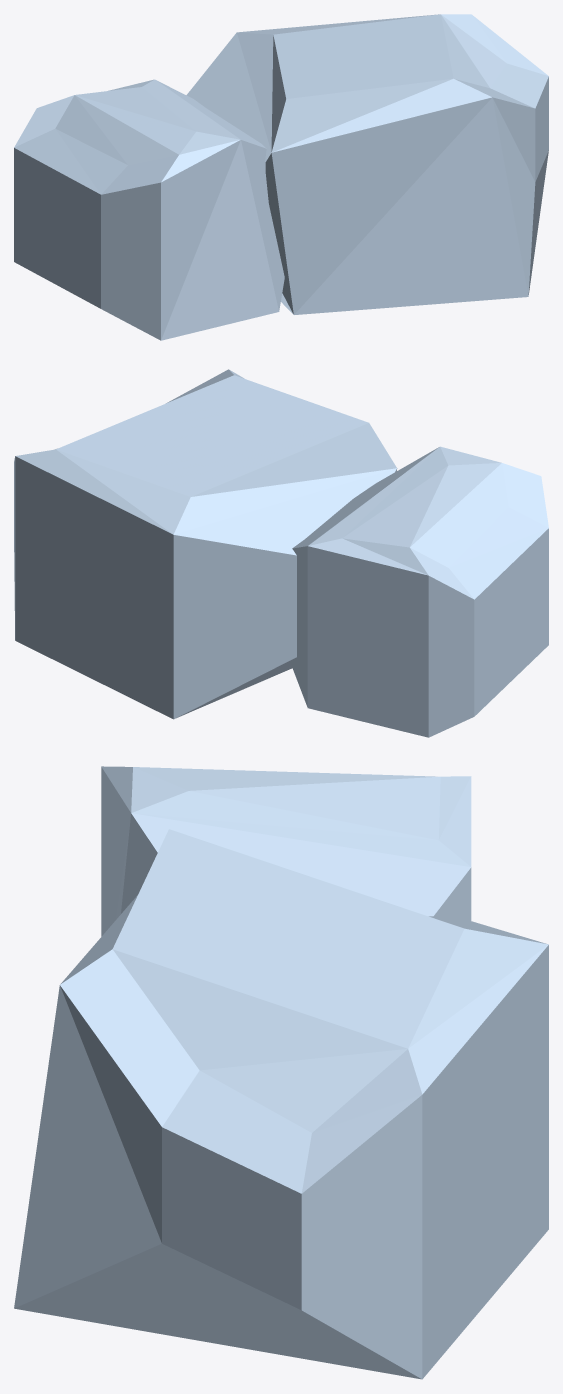
Rendered from rock3.glb.
The picture shows the model from 3 angles, top to bottom: view 1: azimuth 30°, elevation 25°; view 2: azimuth 150°, elevation 25°; view 3: azimuth 270°, elevation 25°; orthographic projection. The views are drawn at different scales.
Visible parts, largest first — view 1: Cube.005; view 2: Cube.005; view 3: Cube.005.
Boxes of the visible parts, x1,y1,x2,y2 form: Cube.005: (14,14,548,340); Cube.005: (14,369,548,737); Cube.005: (14,766,548,1379).
Bounding box in the file's own units: 1.01 × 0.4297 × 0.6024.
1 material, 1 textured.
